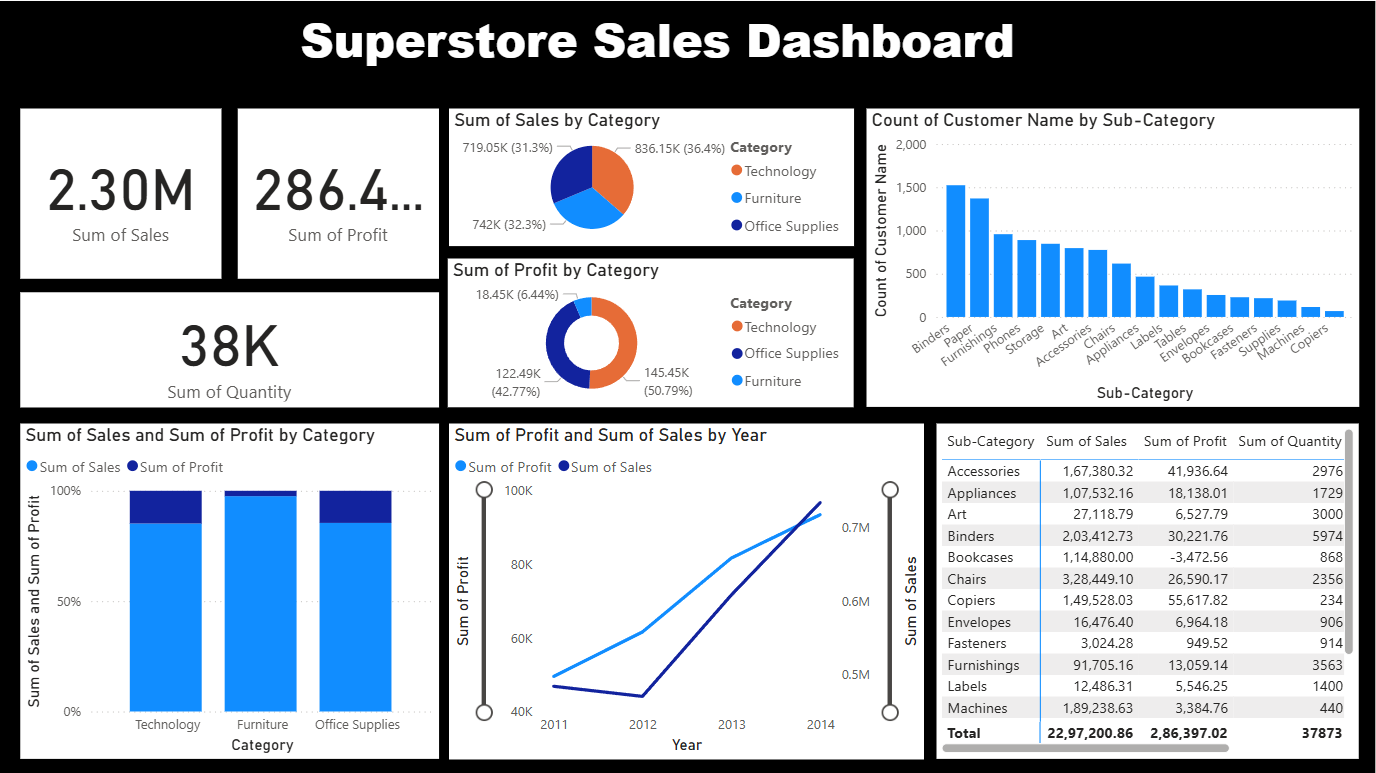

Layout of this report page (visuals, bound fields, positions):
{"tool":"powerbi","page":{"name":"Page 2","canvas":[1280,720],"ordinal":0},"visuals":[{"type":"card","fields":{"Values":["Sum(Orders.Profit)"]},"box":[255.2,79.6,207.2,177],"z":1},{"type":"hundredPercentStackedColumnChart","fields":{"Category":["Orders.Category"],"Y":["Sum(Orders.Sales)","Sum(Orders.Profit)"]},"box":[14,395.3,410.5,309.3],"z":2},{"type":"card","fields":{"Values":["Sum(Orders.Sales)"]},"box":[13.7,79.6,231.9,177],"z":5},{"type":"pieChart","fields":{"Category":["Orders.Category","Orders.Sub-Category","Orders.Region","Orders.Segment"],"Y":["Sum(Orders.Sales)"]},"box":[477.9,79.1,294.2,136],"z":7},{"type":"columnChart","fields":{"Category":["Orders.Sub-Category"],"Y":["CountNonNull(Orders.Customer Name)"]},"box":[786,79.1,483.7,307],"z":8},{"type":"textbox","box":[275.8,0,727.3,79.6],"z":9},{"type":"card","fields":{"Values":["Sum(Orders.Quantity)"]},"box":[13.7,271.7,448.7,113.9],"z":10},{"type":"lineChart","fields":{"Category":["Orders.Order Date.Variation.Date Hierarchy.Year","Orders.Order Date.Variation.Date Hierarchy.Quarter","Orders.Order Date.Variation.Date Hierarchy.Month","Orders.Order Date.Variation.Date Hierarchy.Day"],"Y":["Sum(Orders.Profit)"],"Y2":["Sum(Orders.Sales)"]},"box":[433.7,395.3,410.5,309.3],"z":11},{"type":"pivotTable","fields":{"Rows":["Orders.Sub-Category"],"Values":["Sum(Orders.Sales)","Sum(Orders.Profit)","Sum(Orders.Discount)"]},"box":[854.7,395.3,415.1,309.3],"z":12}]}

Visuals, with their boxes in screenshot pixels (x1, y1, x2, y2), scaled from the page's 1280x720 canvas onto the 1376x773 screenshot:
card - Sum(Orders.Profit): bbox=(274, 85, 497, 275)
hundredPercentStackedColumnChart - Orders.Category x Sum(Orders.Sales): bbox=(15, 424, 456, 756)
card - Sum(Orders.Sales): bbox=(15, 85, 264, 275)
pieChart - Orders.Category x Orders.Sub-Category: bbox=(514, 85, 830, 231)
columnChart - Orders.Sub-Category x CountNonNull(Orders.Customer Name): bbox=(845, 85, 1365, 415)
textbox: bbox=(296, 0, 1078, 85)
card - Sum(Orders.Quantity): bbox=(15, 292, 497, 414)
lineChart - Orders.Order Date.Variation.Date Hierarchy.Year x Orders.Order Date.Variation.Date Hierarchy.Quarter: bbox=(466, 424, 908, 756)
pivotTable - Orders.Sub-Category x Sum(Orders.Sales): bbox=(919, 424, 1365, 756)
